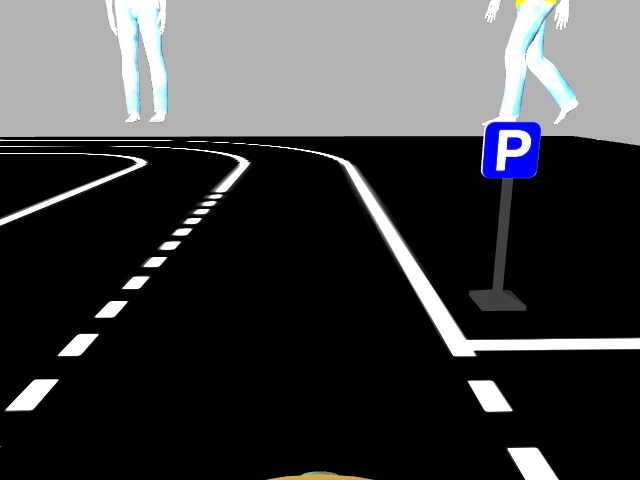Parking: (478, 120, 540, 180)
